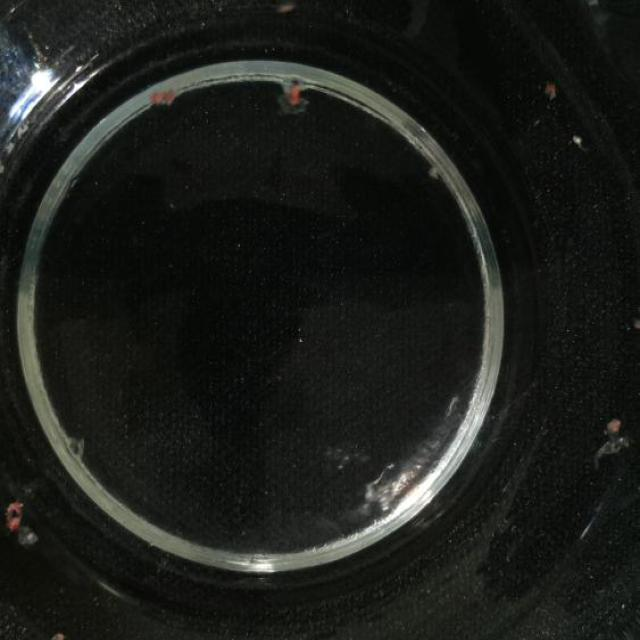fiber: (592, 411, 630, 471), (3, 494, 42, 544), (273, 76, 313, 115), (151, 82, 186, 114), (272, 0, 313, 22), (537, 78, 561, 102), (571, 132, 590, 158), (424, 163, 444, 181), (46, 626, 71, 640), (628, 316, 640, 336)
